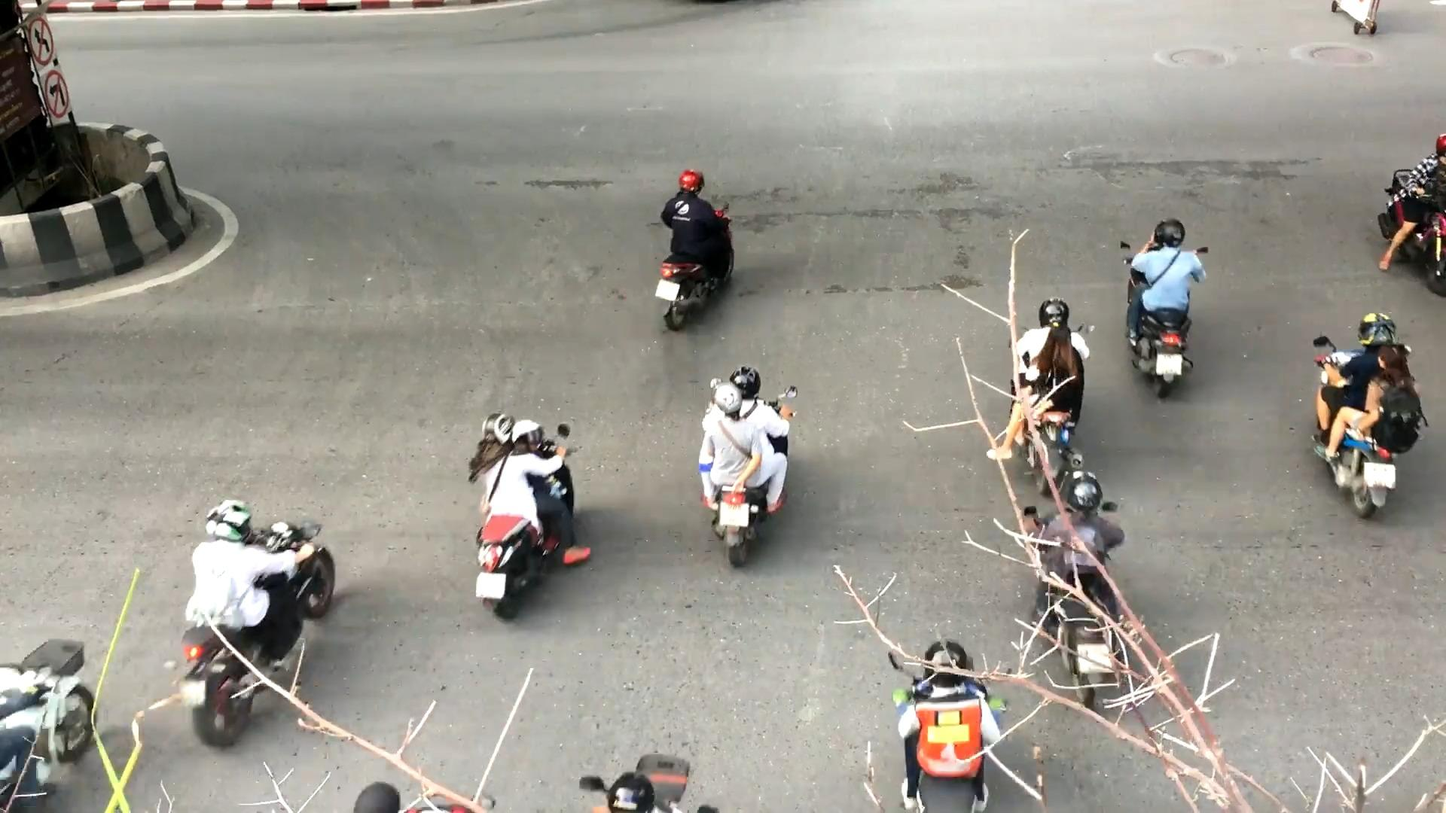driver: (180, 498, 335, 749), (469, 413, 591, 621), (1313, 312, 1429, 519), (1024, 471, 1124, 710), (986, 299, 1097, 497), (888, 641, 1012, 813), (698, 366, 798, 566), (1120, 218, 1208, 400), (655, 169, 735, 331), (1377, 133, 1446, 299)
helmet: (205, 498, 253, 546), (924, 640, 968, 687), (608, 771, 655, 813), (1067, 471, 1103, 515), (1358, 312, 1396, 348), (481, 412, 515, 452), (512, 419, 547, 457), (729, 366, 761, 399), (1154, 218, 1186, 248), (1038, 298, 1069, 328), (712, 382, 741, 414), (1044, 326, 1074, 355), (678, 169, 705, 197)
no-helmet: (1377, 344, 1408, 374)
